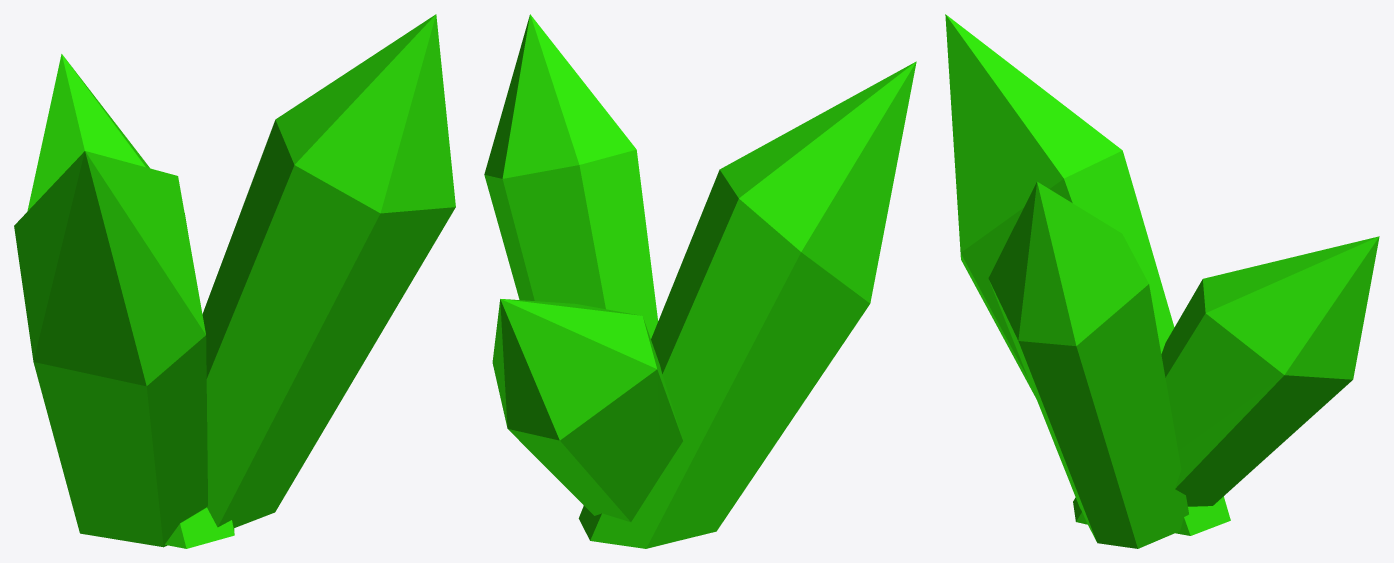
Rendered from cave_crystal6.glb.
The picture shows the model from 3 angles, left to right: view 1: azimuth 30°, elevation 25°; view 2: azimuth 150°, elevation 25°; view 3: azimuth 270°, elevation 25°; orthographic projection. The views are drawn at different scales.
Visible parts, largest first — view 1: Crystal-06-col; view 2: Crystal-06-col; view 3: Crystal-06-col.
Part boxes in pixels (<box>): Crystal-06-col: <box>14,14,455,548</box>; Crystal-06-col: <box>484,14,916,548</box>; Crystal-06-col: <box>945,14,1379,548</box>.
Size of the model in its own units: 1.03 by 1.12 by 1.06.
